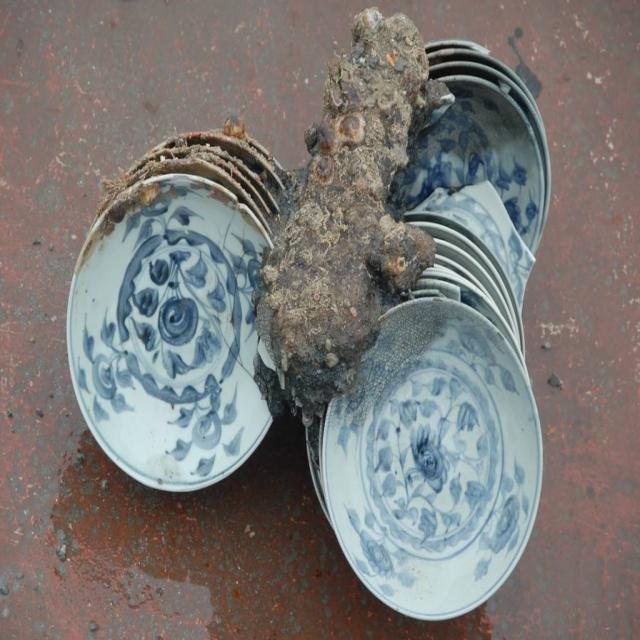non-organic waste: (84, 152, 289, 540), (322, 262, 536, 625)
